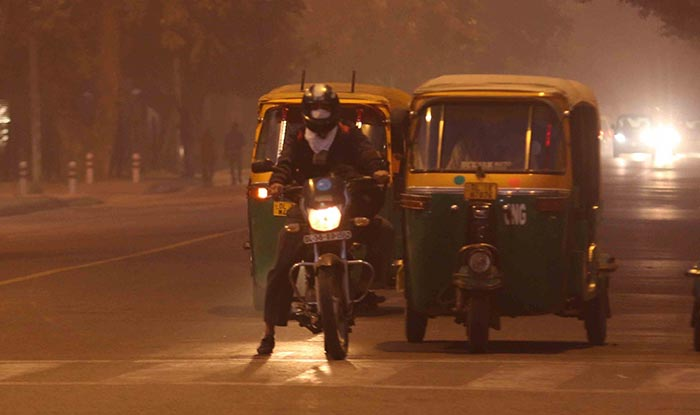bike: (281, 84, 385, 354)
rickshaw: (407, 76, 621, 353)
